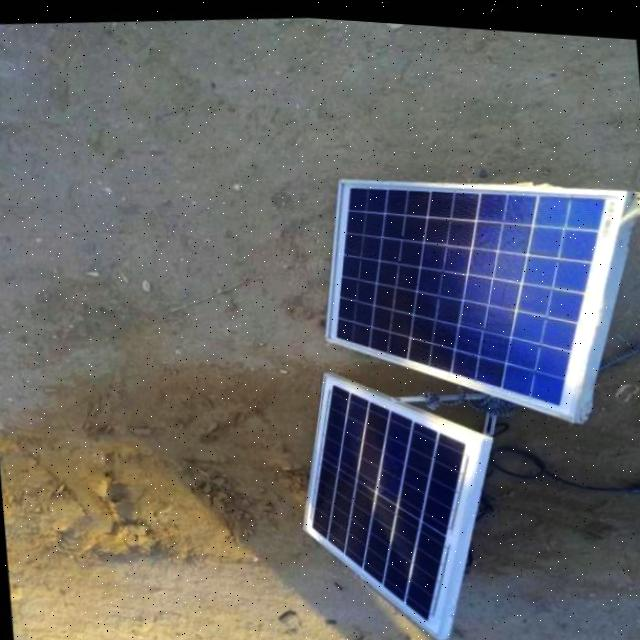Normal Solar Panel: (310, 148, 640, 438), (288, 355, 502, 640)
